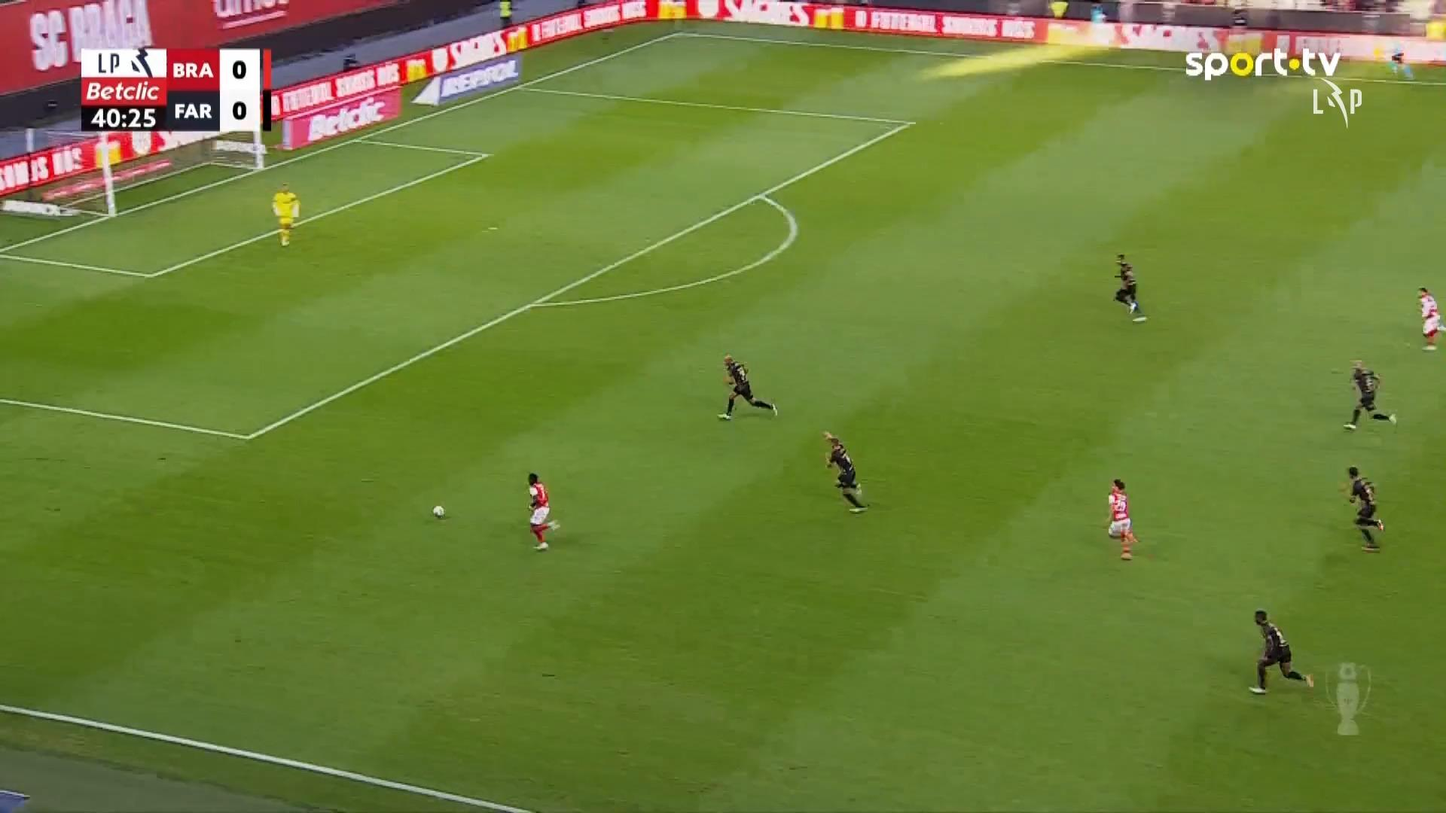ball: (432, 504, 444, 518)
goalkeeper: (270, 181, 299, 247)
player: (1247, 608, 1314, 694), (716, 352, 777, 421), (1342, 358, 1397, 430), (1338, 465, 1384, 551), (822, 430, 868, 513), (1105, 478, 1139, 560), (525, 472, 554, 550), (1416, 286, 1444, 351), (1112, 252, 1139, 314)
